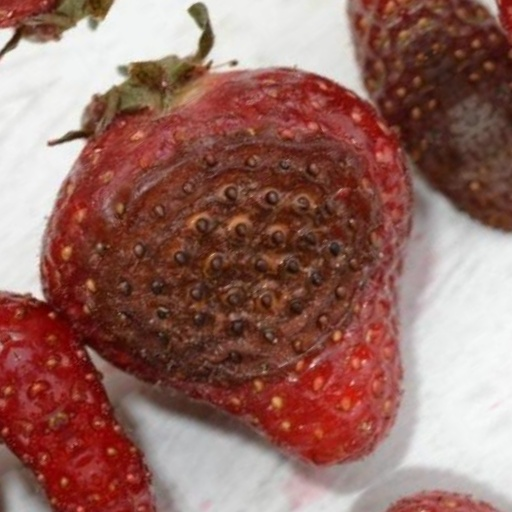Anthracnose Fruit Rot: (81, 120, 404, 372)
